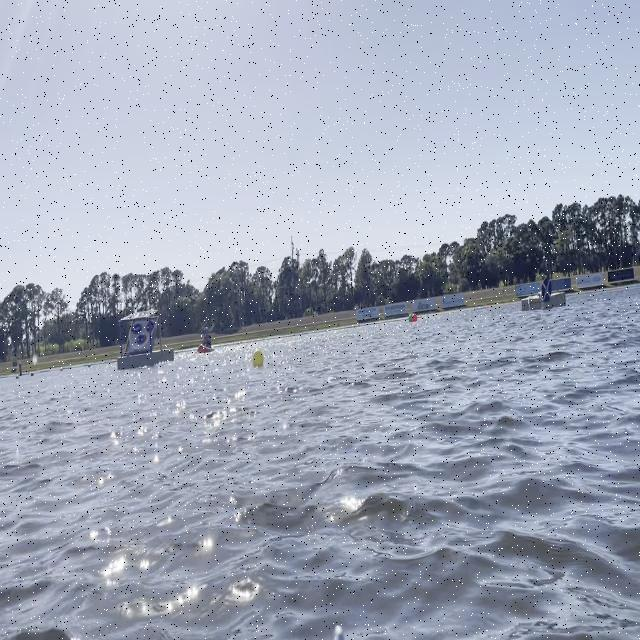buoy: (252, 345, 264, 368), (412, 312, 418, 322), (408, 313, 412, 324)
